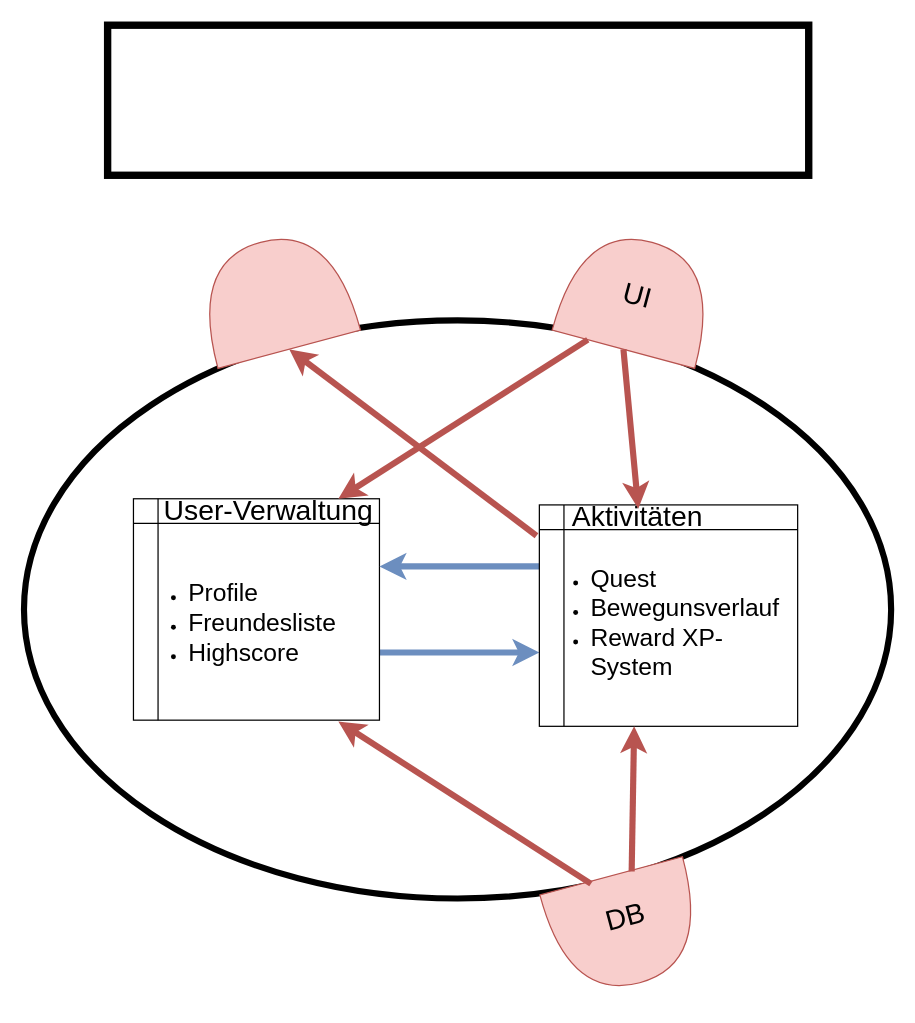
Image size: 915x1023. Some labels were removed from this diagram. The centre of each missing label's shape, as x and y in pixels:
"API" belongs at pixel 274 295.
"Touch Grass" belongs at pixel 457 99.
